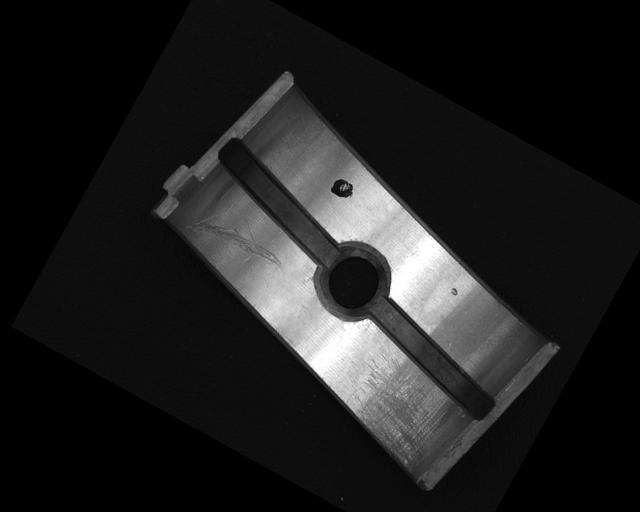blot: (327, 174, 358, 203)
bruise: (447, 285, 460, 297)
gap: (193, 131, 365, 271), (349, 294, 516, 424)
hole: (303, 233, 402, 332)
nick: (184, 191, 298, 279)
scratch: (331, 344, 463, 473)
